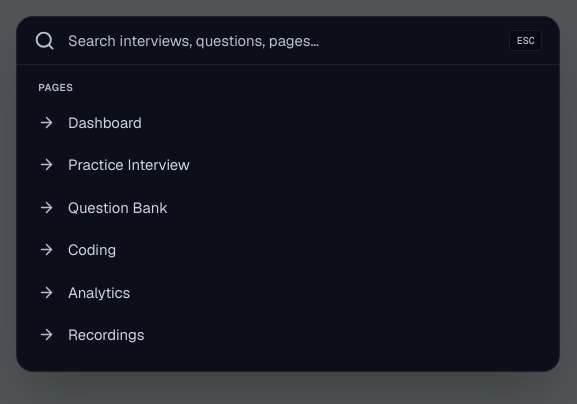
Scenario: SearchModal › debounces API search and renders dynamic session and question results
The image size is (577, 404).
In the field with placeholder "Search interviews, questions, pages…": (282, 41) [68, 30, 496, 51], type "react"
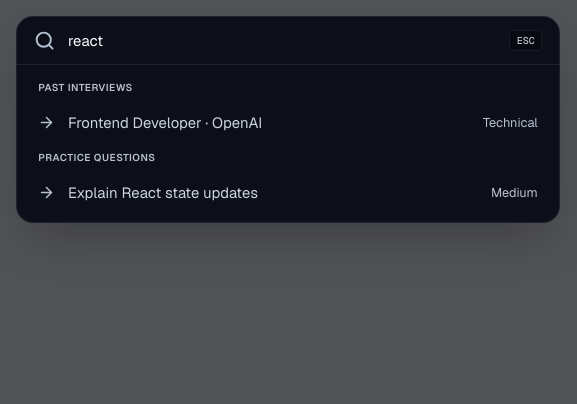
Expected: the text "Frontend Developer · OpenAI" is shown, [68, 113, 262, 132]
Expected: the text "Technical" is shown, [483, 114, 538, 131]
Expected: the text "Explain React state updates" is shown, [68, 183, 258, 202]
